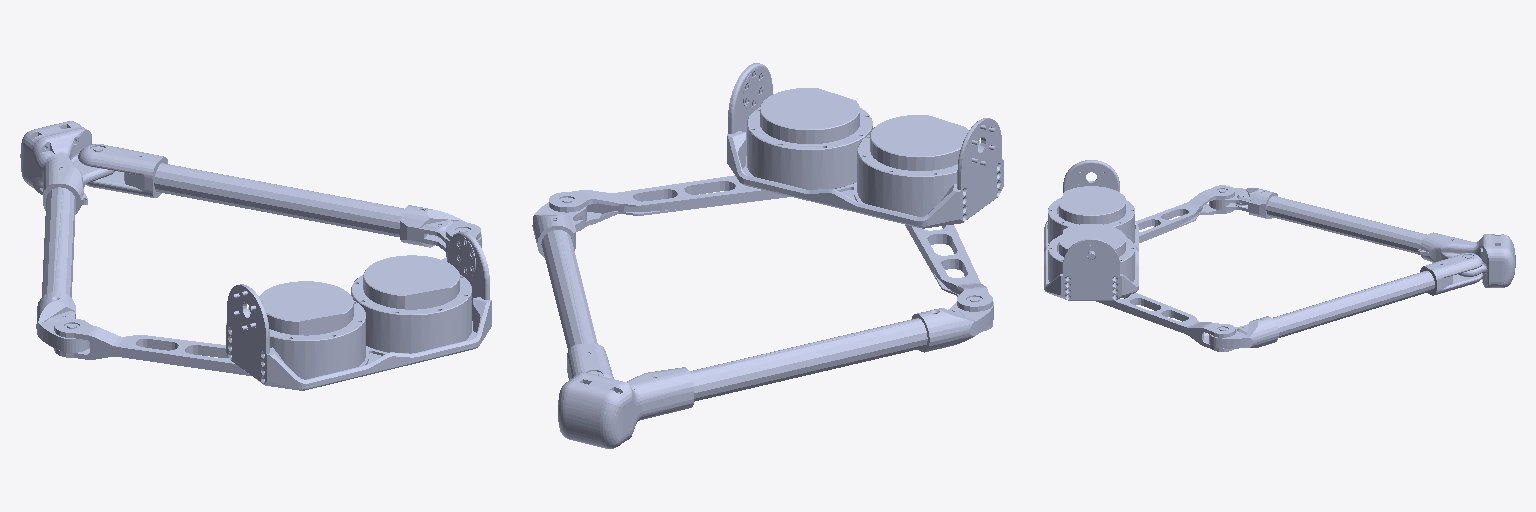
The robot description file, URDF, robot "ntnu_leg":
<?xml version="1.0" encoding="utf-8"?>
<!-- This URDF was automatically created by SolidWorks to URDF Exporter! Originally created by [author] ([email redacted]) 
     Commit Version: 1.6.0-1-g15f4949  Build Version: 1.6.7594.29634
     For more information, please see http://wiki.ros.org/sw_urdf_exporter -->
<robot
  name="ntnu_leg">
  <!-- <link name="world"/> -->

  <link
    name="MH">
    <inertial>
      <origin
        xyz="0.091111 0.00024794 -0.030241"
        rpy="0 0 0" />
      <mass
        value="1.4057" />
      <inertia
        ixx="0.0010021"
        ixy="1.1E-06"
        ixz="-7.91E-06"
        iyy="0.004407"
        iyz="-6.01E-06"
        izz="0.0048417" />
    </inertial>
    <visual>
      <origin
        xyz="0 0 0"
        rpy="0 0 0" />
      <geometry>
        <mesh
          filename="meshes/MH.obj" />
      </geometry>
      <material
        name="">
        <color
          rgba="0.79216 0.81961 0.93333 1" />
      </material>
    </visual>
    <collision>
      <origin
        xyz="0 0 0"
        rpy="0 0 0" />
      <geometry>
        <mesh
          filename="meshes/MH_collision.obj" />
      </geometry>
    </collision>
  </link>
  <!-- <joint
    name="jointMH"
    type="revolute">
    <origin
      xyz="0 0 1"
      rpy="-1.57079632679  0 0" />
    <parent
      link="world" />
    <child
      link="MH" />
    <axis
      xyz="1 0 0" />
    <limit
      lower="-1.57079632679"
      upper="1.57079632679"
      effort="100"
      velocity="1000" />
  </joint> -->
  <link
    name="link11">
    <inertial>
      <origin
        xyz="0.098421 -0.00092667 -0.00012402"
        rpy="0 0 0" />
      <mass
        value="0.10145" />
      <inertia
        ixx="9.3E-06"
        ixy="2.43E-06"
        ixz="-1.24E-06"
        iyy="0.00050506"
        iyz="1E-08"
        izz="0.00051065" />
    </inertial>
    <visual>
      <origin
        xyz="0 0 0"
        rpy="0 0 0" />
      <geometry>
        <mesh
          filename="meshes/link11.obj" />
      </geometry>
      <material
        name="">
        <color
          rgba="0.79216 0.81961 0.93333 1" />
      </material>
    </visual>
    <collision>
      <origin
        xyz="0 0 0"
        rpy="0 0 0" />
      <geometry>
        <mesh
          filename="meshes/link11_collision.obj" />
      </geometry>
    </collision>
  </link>
  <joint
    name="joint11"
    type="revolute">
    <origin
      xyz="0.046 -1.1338E-05 -0.0597"
      rpy="3.1416 0 2.3095" />
    <parent
      link="MH" />
    <child
      link="link11" />
    <axis
      xyz="0 0 1" />
    <limit
      lower="-3.14"
      upper="3.14"
      effort="100"
      velocity="1000" />
  </joint>
  <link
    name="link21">
    <inertial>
      <origin
        xyz="0.20494 -0.021034 -2.714E-05"
        rpy="0 0 0" />
      <mass
        value="0.20117" />
      <inertia
        ixx="3.571E-05"
        ixy="9.52E-05"
        ixz="1.7E-07"
        iyy="0.0018983"
        iyz="-2E-08"
        izz="0.0019089" />
    </inertial>
    <visual>
      <origin
        xyz="0 0 0"
        rpy="0 0 0" />
      <geometry>
        <mesh
          filename="meshes/link21.obj" />
      </geometry>
      <material
        name="">
        <color
          rgba="0.79216 0.81961 0.93333 1" />
      </material>
    </visual>
    <collision>
      <origin
        xyz="0 0 0"
        rpy="0 0 0" />
      <geometry>
        <mesh
          filename="meshes/link21_collision.obj" />
      </geometry>
    </collision>
  </link>
  <joint
    name="joint21"
    type="revolute">
    <origin
      xyz="0.18 0 0"
      rpy="0 0 1.3265" />
    <parent
      link="link11" />
    <child
      link="link21" />
    <axis
      xyz="0 0 1" />
    <limit
      lower="-2.85"
      upper="1.58"
      effort="100"
      velocity="1000" />
  </joint>
  <link
    name="link12">
    <inertial>
      <origin
        xyz="0.098201 0.00092745 -0.00012329"
        rpy="0 0 0" />
      <mass
        value="0.10205" />
      <inertia
        ixx="9.34E-06"
        ixy="-2.49E-06"
        ixz="-1.24E-06"
        iyy="0.00050784"
        iyz="-1E-08"
        izz="0.00051346" />
    </inertial>
    <visual>
      <origin
        xyz="0 0 0"
        rpy="0 0 0" />
      <geometry>
        <mesh
          filename="meshes/link12.obj" />
      </geometry>
      <material
        name="">
        <color
          rgba="0.79216 0.81961 0.93333 1" />
      </material>
    </visual>
    <collision>
      <origin
        xyz="0 0 0"
        rpy="0 0 0" />
      <geometry>
        <mesh
          filename="meshes/link12_collision.obj" />
      </geometry>
    </collision>
  </link>
  <joint
    name="joint12"
    type="revolute">
    <origin
      xyz="0.136 -1.1338E-05 -0.0597"
      rpy="3.1416 0 0.83482" />
    <parent
      link="MH" />
    <child
      link="link12" />
    <axis
      xyz="0 0 1" />
    <limit
      lower="-3.14"
      upper="3.14"
      effort="100"
      velocity="1000" />
  </joint>
  <link
    name="link22">
    <inertial>
      <origin
        xyz="0.18647 0.0041966 0"
        rpy="0 0 0" />
      <mass
        value="0.13331" />
      <inertia
        ixx="1.73E-05"
        ixy="5.202E-05"
        ixz="0"
        iyy="0.0015703"
        iyz="0"
        izz="0.0015717" />
    </inertial>
    <visual>
      <origin
        xyz="0 0 0"
        rpy="0 0 0" />
      <geometry>
        <mesh
          filename="meshes/link22.obj" />
      </geometry>
      <material
        name="">
        <color
          rgba="0.79216 0.81961 0.93333 1" />
      </material>
    </visual>
    <collision>
      <origin
        xyz="0 0 0"
        rpy="0 0 0" />
      <geometry>
        <mesh
          filename="meshes/link22_collision.obj" />
      </geometry>
    </collision>
  </link>
  <joint
    name="joint22"
    type="revolute">
    <origin
      xyz="0.18 0 0"
      rpy="0 0 -1.3233" />
    <parent
      link="link12" />
    <child
      link="link22" />
    <axis
      xyz="0 0 1" />
    <limit
      lower="-1.51"
      upper="2.9"
      effort="100"
      velocity="1000" />
  </joint>

<!-- Add self collision -->
<gazebo reference="link21">
  <selfCollide>true</selfCollide>
</gazebo>
<gazebo reference="link11">
  <selfCollide>true</selfCollide>
</gazebo>
<gazebo reference="link22">
  <selfCollide>true</selfCollide>
</gazebo>
<gazebo reference="link12">
  <selfCollide>true</selfCollide>
</gazebo>


</robot>

--- Facts derived from the render (not from the file) ---
Views: 3 orthographic renders of the robot side by side, from view 1: azimuth 30°, elevation 25°; view 2: azimuth 150°, elevation 25°; view 3: azimuth 270°, elevation 25°.
Model ntnu_leg with 5 links and 4 joints (4 revolute), rooted at MH, posed all joints at 0.
Visible links, largest first — view 1: MH, link22, link21, link11; view 2: MH, link21, link22, link12, link11; view 3: MH, link21, link22, link12, link11.
Boxes of the visible links, <box> form: MH: <box>226,232,491,390</box>; link22: <box>78,144,481,252</box>; link21: <box>20,121,114,352</box>; link11: <box>54,318,250,375</box>; MH: <box>727,63,1003,228</box>; link21: <box>558,302,993,448</box>; link22: <box>532,202,613,379</box>; link12: <box>549,175,789,231</box>; link11: <box>905,225,992,330</box>; MH: <box>1044,160,1138,300</box>; link21: <box>1209,188,1515,287</box>; link22: <box>1209,253,1482,348</box>; link12: <box>1096,293,1235,351</box>; link11: <box>1136,185,1234,242</box>.
Size in the robot's own frame: 0.3616 by 0.4782 by 0.1002 metres.
Meshes: 5 distinct files referenced, 5 mesh visuals loaded (5 OBJ).
